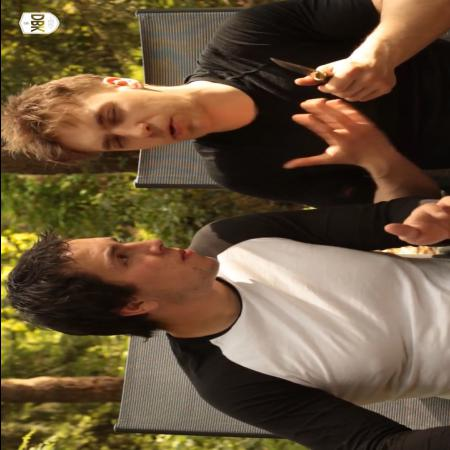long weapon: (256, 50, 366, 102)
